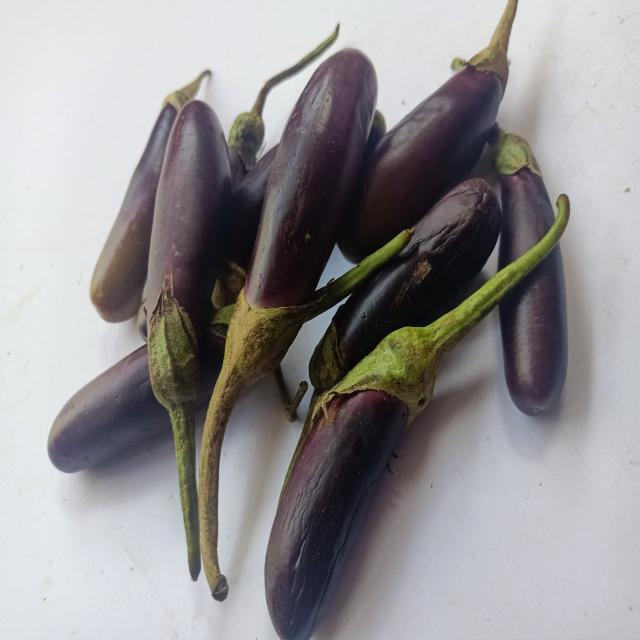Brinjal: (265, 194, 570, 639), (190, 49, 377, 505), (338, 0, 518, 261), (146, 100, 231, 580), (500, 245, 569, 415), (491, 127, 556, 270)
